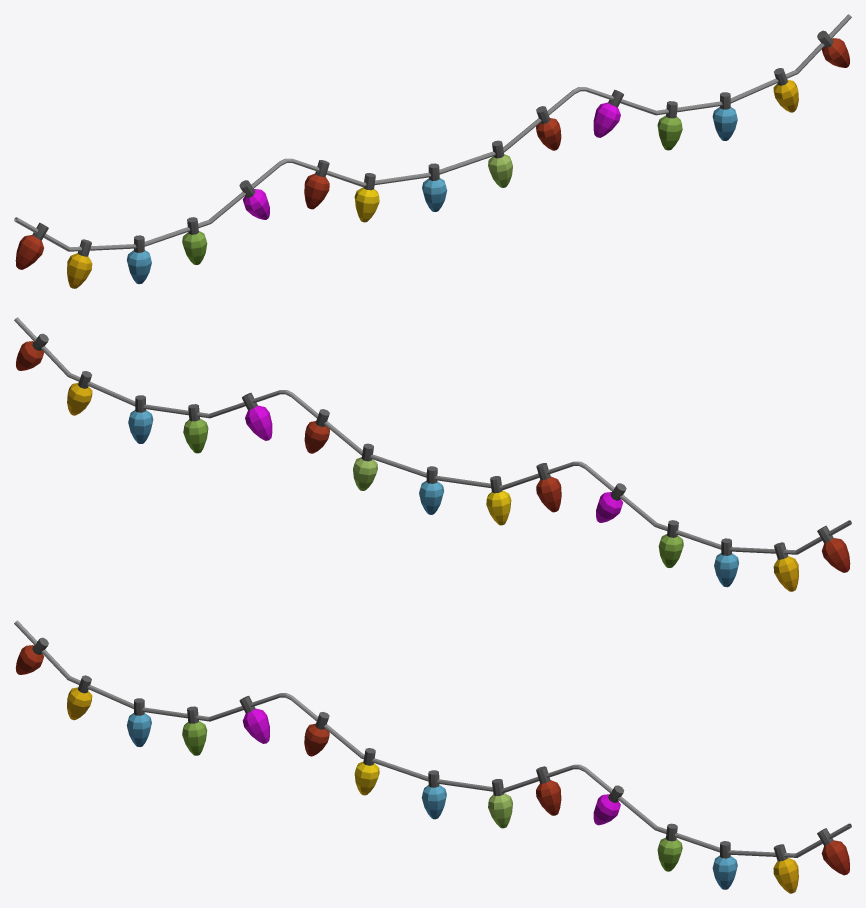
File: garland.fbx
3 renders of one model, top to bottom at view 1: azimuth 30°, elevation 25°; view 2: azimuth 150°, elevation 25°; view 3: azimuth 330°, elevation 25°, orthographic.
Visible parts, largest first — view 1: garland; view 2: garland; view 3: garland.
Boxes of the visible parts, box(x1,y1,x2,y2) form: garland: box(14, 14, 851, 288); garland: box(14, 317, 851, 591); garland: box(14, 620, 851, 893).
Size of the model in its own units: 678 by 74.44 by 18.52.
